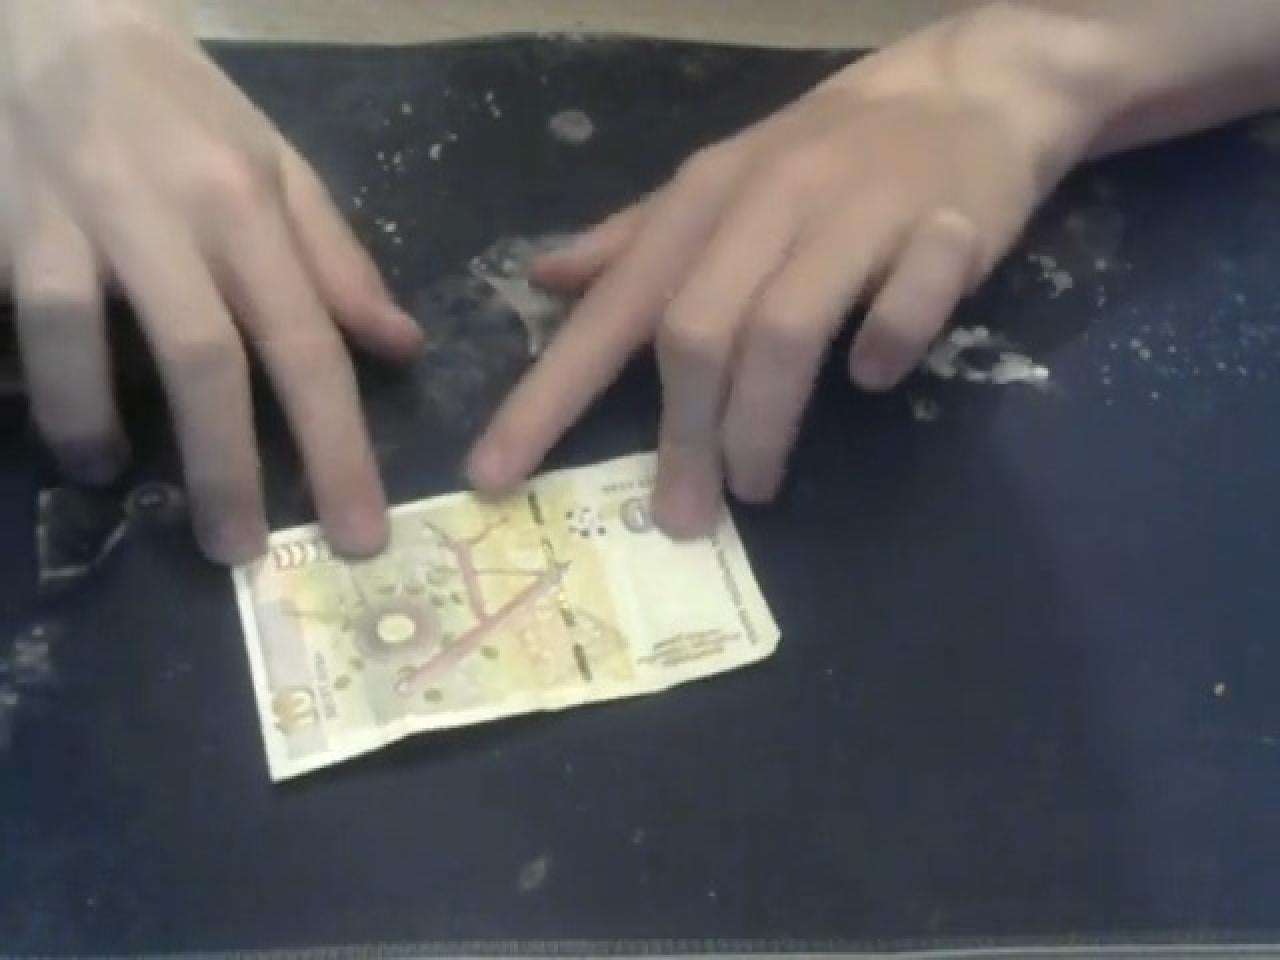10leva: (234, 454, 782, 784)
